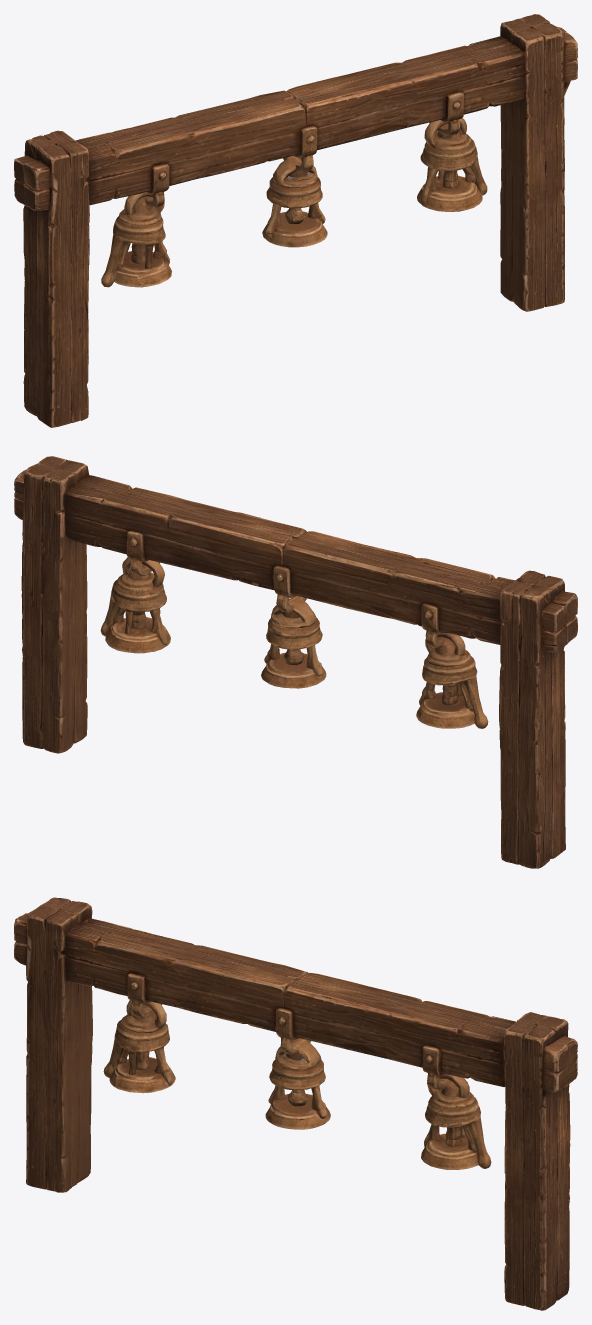
Rendered from three-bells.glb.
The picture shows the model from 3 angles, top to bottom: view 1: azimuth 30°, elevation 25°; view 2: azimuth 150°, elevation 25°; view 3: azimuth 330°, elevation 25°; orthographic projection.
Parts seen in each view (by area): view 1: Mesh_0; view 2: Mesh_0; view 3: Mesh_0.
Boxes of the visible parts, x1,y1,x2,y2 form: Mesh_0: [14, 14, 577, 427]; Mesh_0: [14, 456, 577, 868]; Mesh_0: [14, 897, 577, 1310].
Size of the model in its own units: 1.9 by 0.9138 by 0.2063.
1 material, 1 textured.
